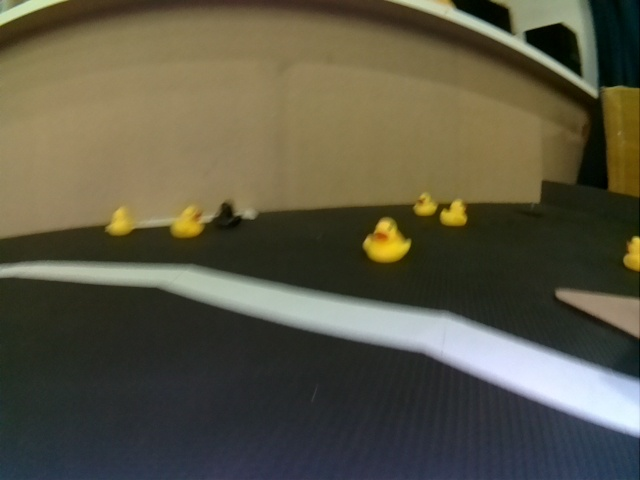Duckie: (363, 217, 411, 261), (171, 206, 204, 238), (106, 208, 133, 235), (442, 200, 467, 226), (623, 237, 640, 272), (413, 194, 436, 217)
